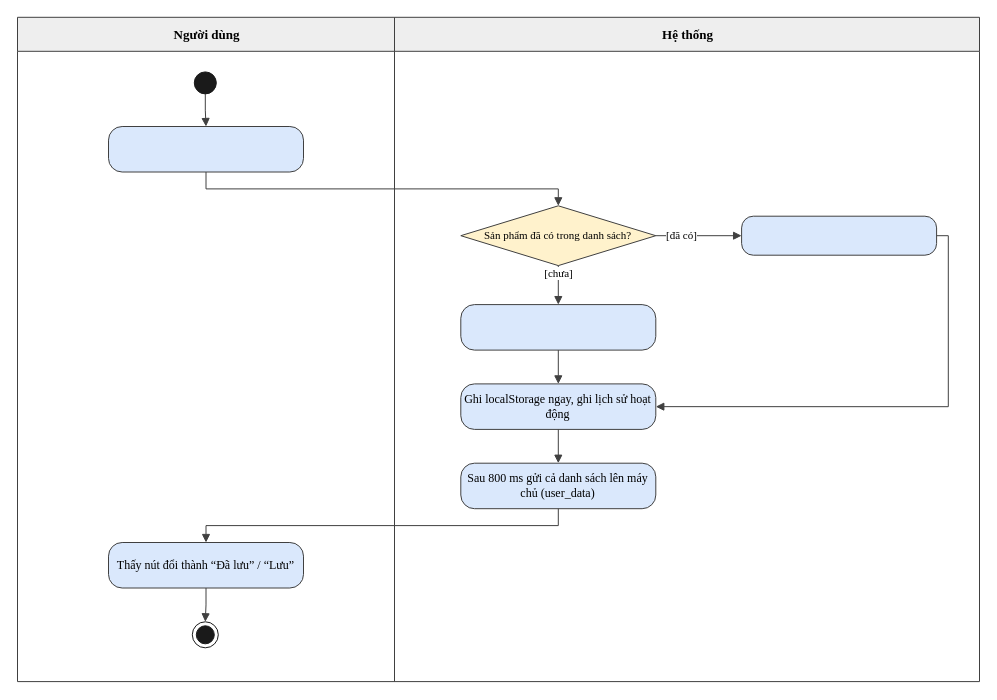
This 997x700 diagram has some shape labels left out. The shapes that lost their labels are listed below. From the top down, each one's centre as x and y in pixels, then its label:
At (206,149): "Bấm “Lưu sản phẩm” trên thẻ hoặc bảng so sánh".
At (839,235): "Bỏ khỏi danh sách đã lưu".
At (558,327): "Thêm sản phẩm kèm câu hỏi nguồn và thời điểm lưu".
